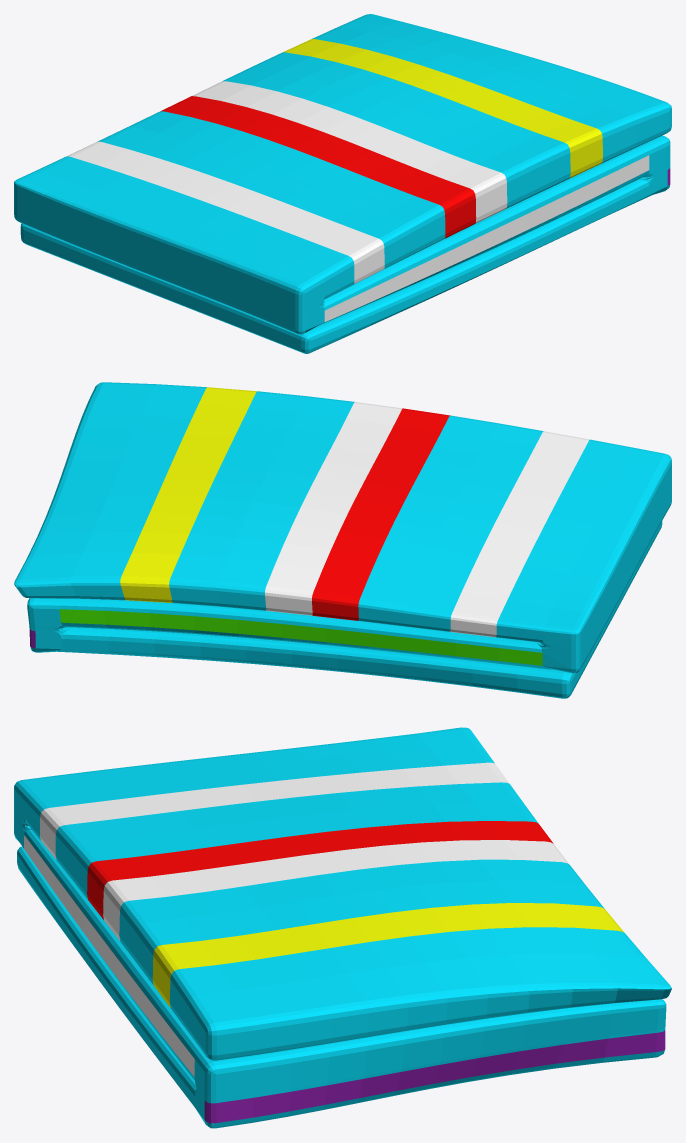
3 renders of one model, top to bottom at view 1: azimuth 30°, elevation 25°; view 2: azimuth 150°, elevation 25°; view 3: azimuth 270°, elevation 25°, orthographic. The views are drawn at different scales.
Parts seen in each view (by area): view 1: Box002; view 2: Box002; view 3: Box002.
Boxes of the visible parts, <box> form: Box002: <box>14,14,671,353</box>; Box002: <box>14,382,671,698</box>; Box002: <box>14,727,671,1128</box>.
Bounding box in the file's own units: 631874 × 101271 × 537312.
